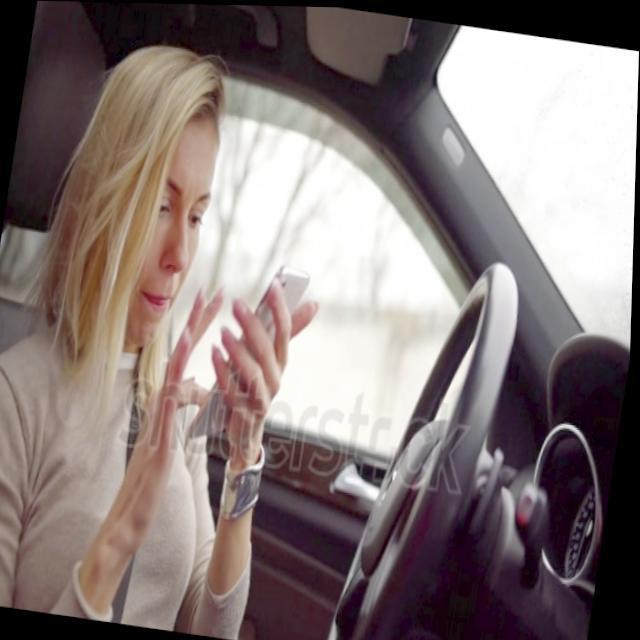PhoneCall: (190, 255, 310, 452)
